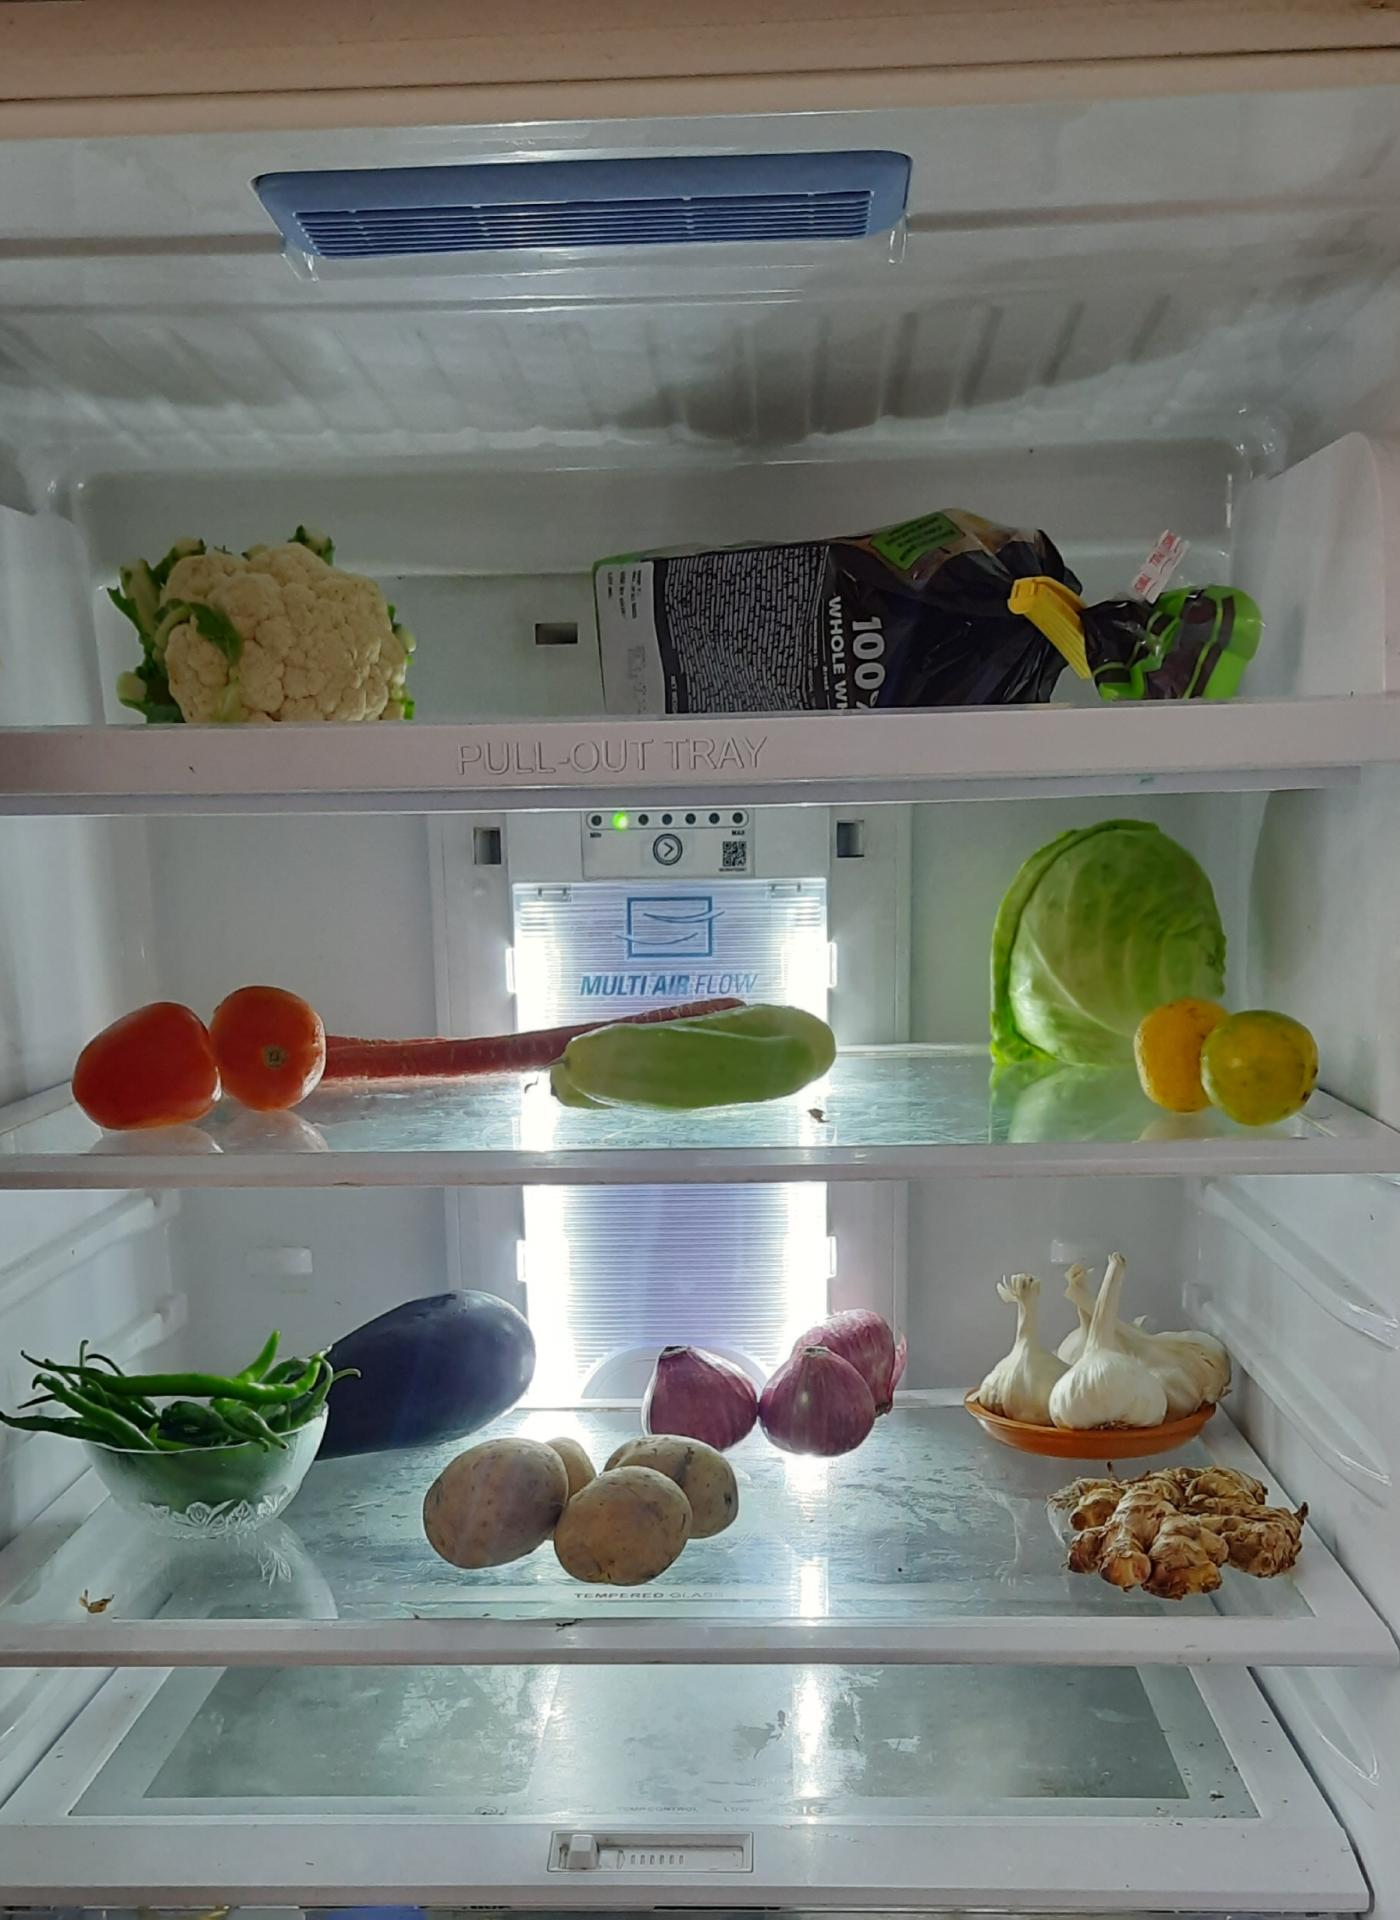bread: (562, 496, 1309, 719)
brinjal: (276, 1260, 553, 1447)
cabbage: (966, 793, 1232, 1117)
carrots: (295, 1006, 610, 1078)
cauliflower: (76, 531, 435, 738)
chillies: (6, 1319, 350, 1534)
cucumber: (544, 1008, 811, 1118)
garlic: (968, 1231, 1242, 1434)
ginger: (1026, 1468, 1303, 1598)
lemon: (1124, 985, 1337, 1124)
onion: (617, 1313, 933, 1455)
potato: (407, 1456, 786, 1604)
tomato: (79, 982, 331, 1111)
